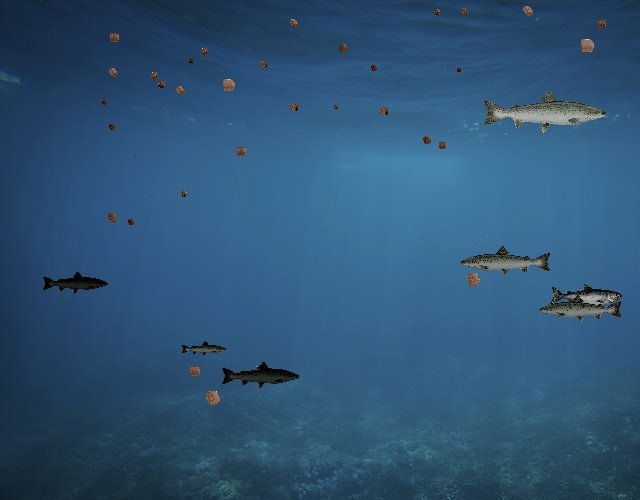Fish: (480, 88, 609, 134), (460, 245, 554, 278), (538, 293, 624, 324), (220, 360, 301, 389), (549, 283, 622, 309), (42, 271, 110, 295), (180, 340, 227, 357)
Pellet: (198, 382, 228, 413), (183, 360, 206, 383), (374, 102, 393, 121), (176, 187, 191, 202), (429, 5, 444, 19), (124, 215, 138, 229)
